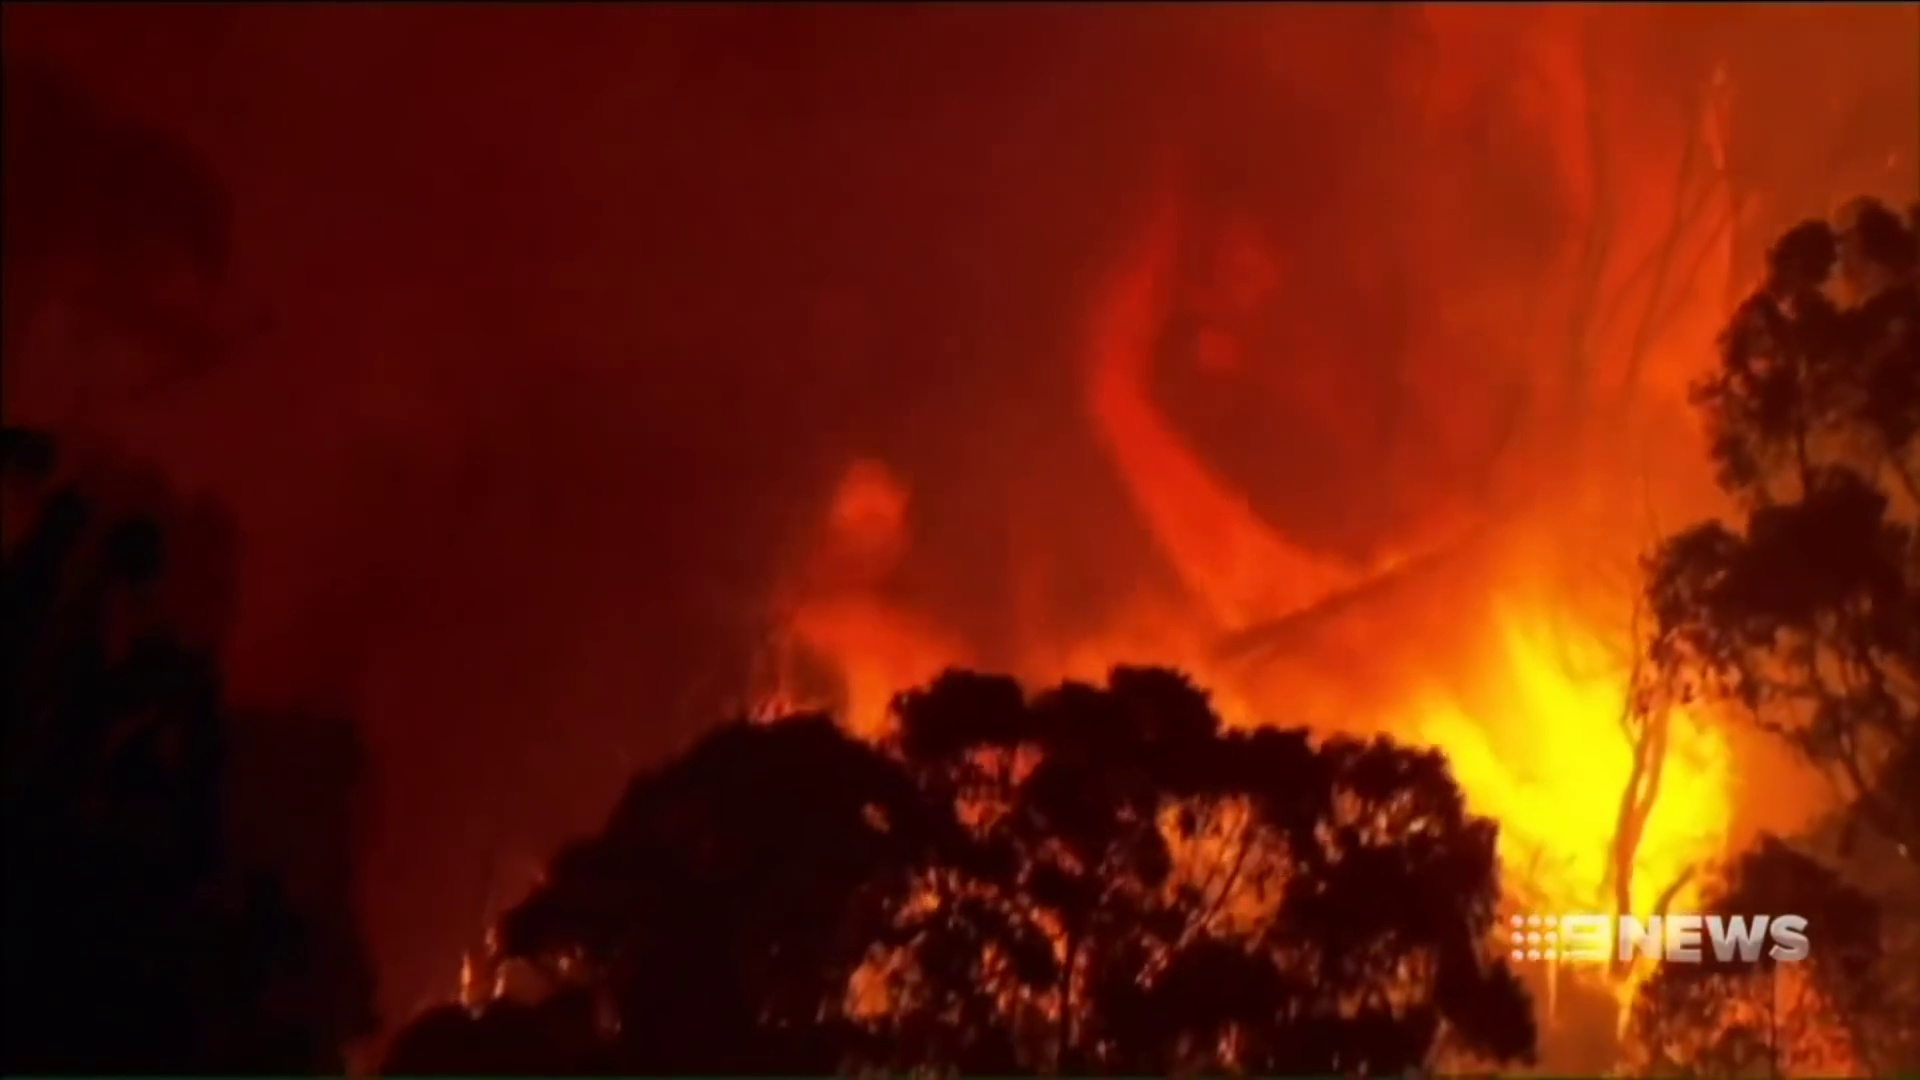fire: (1468, 673, 1735, 907)
